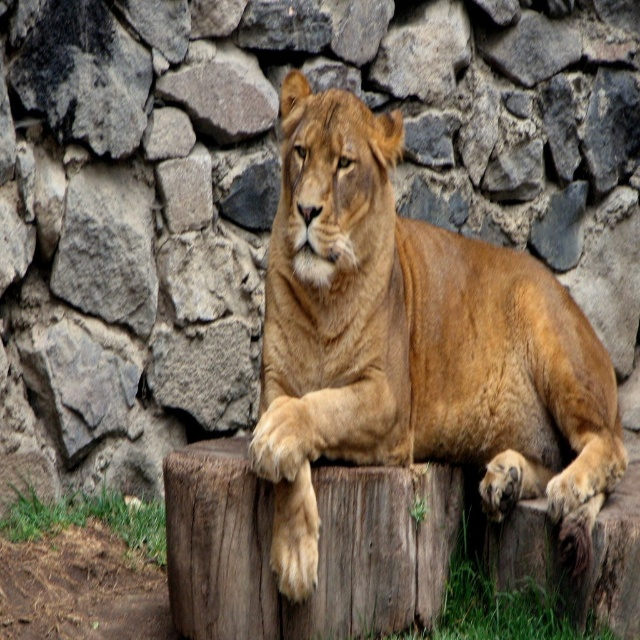Lion: (247, 68, 629, 605)
